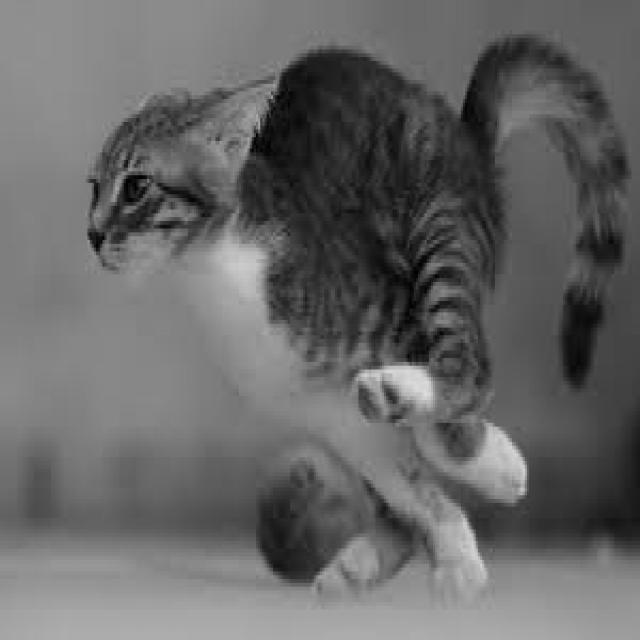cat: (43, 34, 637, 606)
